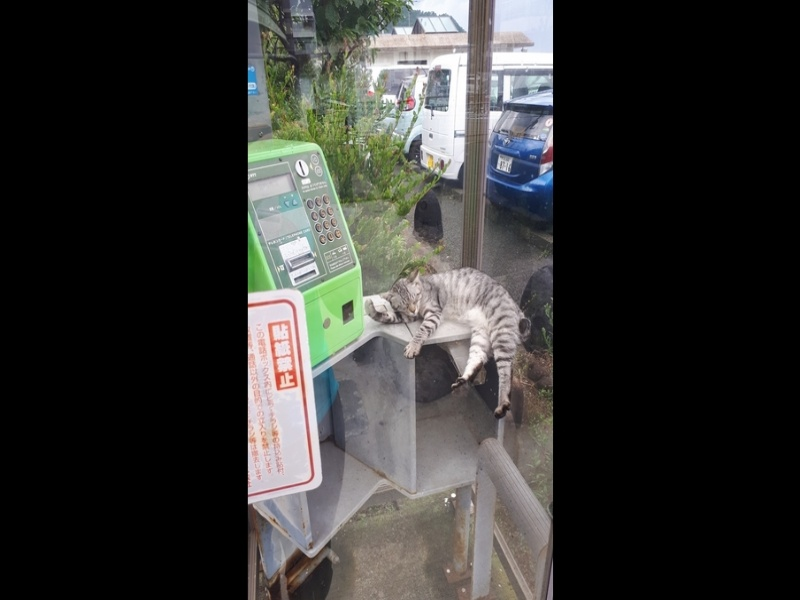cat: (382, 258, 532, 418)
